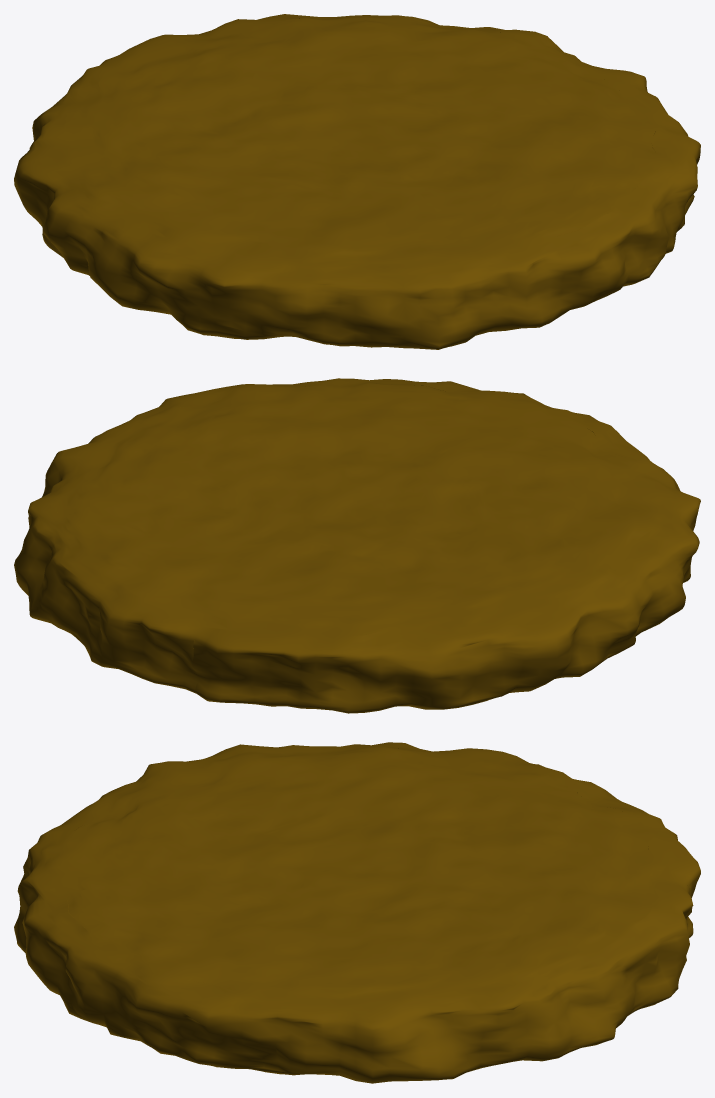
The model's file is cookedpatty.fbx.
3 views of the same model, one above another, from view 1: azimuth 30°, elevation 25°; view 2: azimuth 150°, elevation 25°; view 3: azimuth 270°, elevation 25° (orthographic).
Visible parts, largest first — view 1: Cylinder.003; view 2: Cylinder.003; view 3: Cylinder.003.
Part boxes in pixels (bbox=[...]): Cylinder.003: bbox=[14, 14, 700, 349]; Cylinder.003: bbox=[14, 378, 700, 713]; Cylinder.003: bbox=[14, 742, 700, 1083].
Bounding box in the file's own units: 103 × 14.88 × 102.
